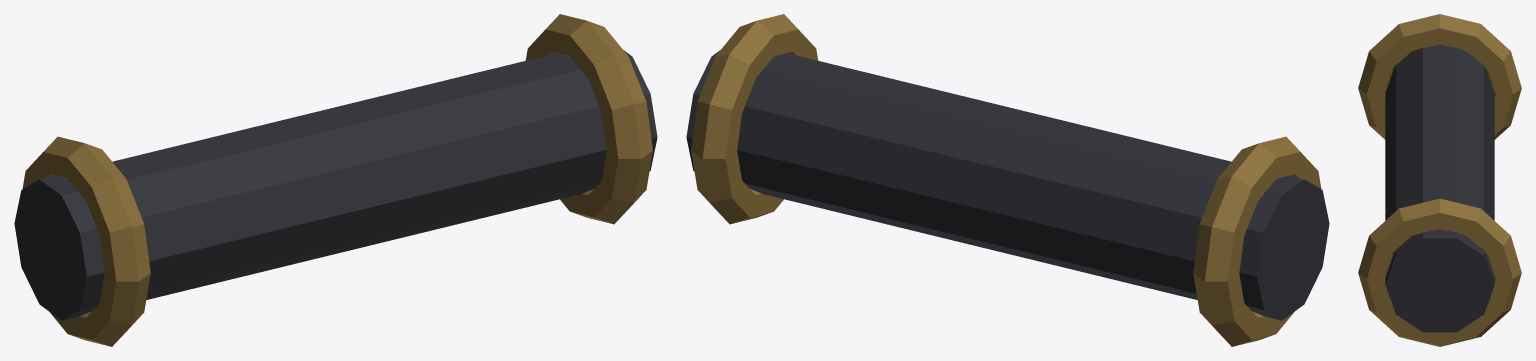
The model's file is tt_pipe_straight.glb.
3 views of the same model, side by side, from view 1: azimuth 30°, elevation 25°; view 2: azimuth 150°, elevation 25°; view 3: azimuth 270°, elevation 25° (orthographic). The views are drawn at different scales.
Visible parts, largest first — view 1: TT_Iron, TT_Brass; view 2: TT_Iron, TT_Brass; view 3: TT_Iron, TT_Brass.
Boxes of the visible parts, <box> form: TT_Iron: <box>14,50,657,320</box>; TT_Brass: <box>22,14,652,346</box>; TT_Iron: <box>686,50,1329,320</box>; TT_Brass: <box>691,14,1321,346</box>; TT_Iron: <box>1385,44,1494,332</box>; TT_Brass: <box>1358,14,1521,346</box>.
Size of the model in its own units: 1 by 0.33 by 0.33.
